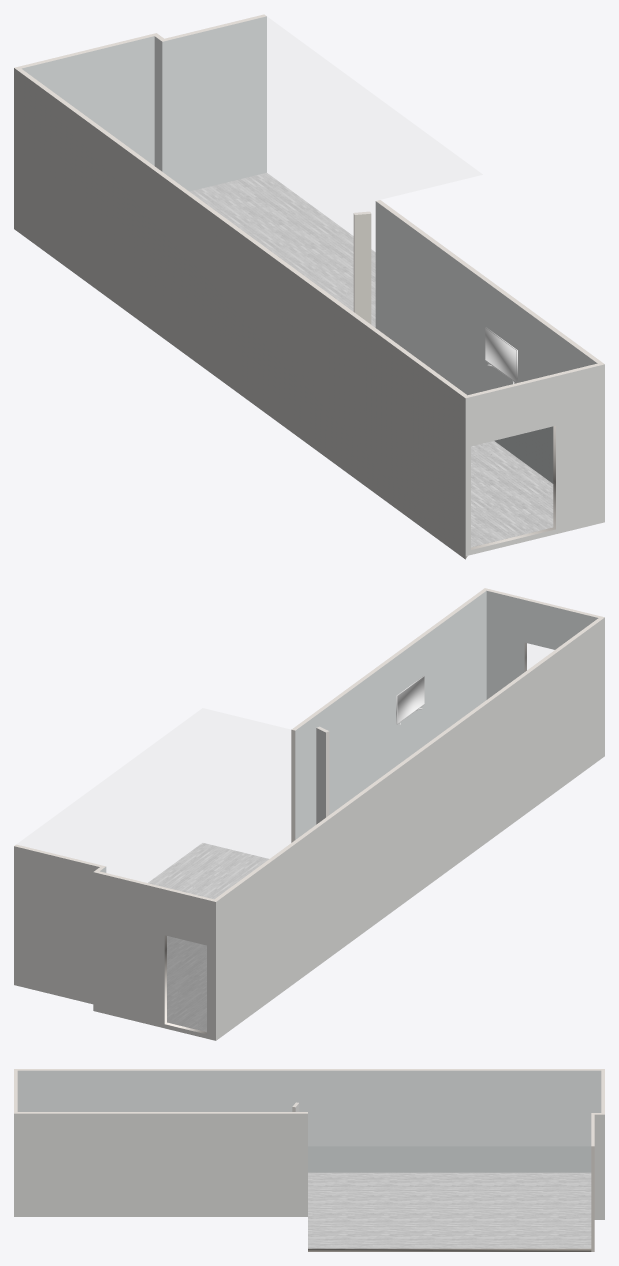
The model's file is Hallway 4th floor.fbx.
The picture shows the model from 3 angles, top to bottom: view 1: azimuth 30°, elevation 25°; view 2: azimuth 150°, elevation 25°; view 3: azimuth 270°, elevation 25°; orthographic projection. The views are drawn at different scales.
Parts seen in each view (by area): view 1: node_c8f162b4_8bad_4fa0_b70a_cc8553a40b19_mesh0, node_9984ba4a_aca2_4daa_b673_05e6e097b9c6_mesh0, node_58249c9a_773a_4366_939b_42f26eef8e7c_mesh0, node_5dfb7020_3766_4bbe_a684_c3a0efe48302_mesh0, node_ee2793d4_974b_43e4_9093_056a3babbbfe_mesh0, node_a1ca4273_c1d7_466e_bc52_b84c2504c80e_mesh0, node_0c271f42_f6e7_4593_a70a_e0feb3aebad8_mesh0, node_2cb83593_a320_420b_b29b_11f2c9d4d0d1_mesh0, node_8138a8fd_d3d7_47f0_9329_5d009b8d666b_mesh0, node_e71bfa3d_18e6_4b1f_af15_6367458d3462_mesh0, node_ad9f8be8_83d5_4f9c_8754_e62c8a05aeab_mesh0, node_f7a79e55_2584_4438_bbd1_88c44eee472d_mesh0 (+3 smaller); view 2: node_c8f162b4_8bad_4fa0_b70a_cc8553a40b19_mesh0, node_9984ba4a_aca2_4daa_b673_05e6e097b9c6_mesh0, node_58249c9a_773a_4366_939b_42f26eef8e7c_mesh0, node_ee2793d4_974b_43e4_9093_056a3babbbfe_mesh0, node_5dfb7020_3766_4bbe_a684_c3a0efe48302_mesh0, node_2f06f73a_b847_4abf_8978_17d8f9cf0782_mesh0, node_d3795726_85a1_40c9_97d2_efd1601a2b18_mesh0, node_2cb83593_a320_420b_b29b_11f2c9d4d0d1_mesh0, node_95a6078e_0f29_4c5b_ba1c_aaef113c0a27_mesh0, node_da366a22_dcdf_4169_ba13_f0b8be87ac36_mesh0, node_e70dcd93_b032_46ff_ba79_76cd89c55ba5_mesh0, node_ad9f8be8_83d5_4f9c_8754_e62c8a05aeab_mesh0 (+3 smaller); view 3: node_7a451858_35b3_472e_9dad_9d8d43d53511_mesh0, node_0e517455_7cbd_4e45_b249_a627592d66c5_mesh0, node_2cb83593_a320_420b_b29b_11f2c9d4d0d1_mesh0, node_9984ba4a_aca2_4daa_b673_05e6e097b9c6_mesh0, node_58249c9a_773a_4366_939b_42f26eef8e7c_mesh0, node_5dfb7020_3766_4bbe_a684_c3a0efe48302_mesh0, node_ad9f8be8_83d5_4f9c_8754_e62c8a05aeab_mesh0, node_aca07e04_f72e_46d1_9ef7_018e1358c714_mesh0, node_6a0d232c_fbf8_4fb6_90fa_848ff07a6869_mesh0, node_5b8b7958_3532_4bbc_b8e1_8815c07b6522_mesh0, node_f032e900_7dc4_4cd1_8155_c2ceb701b849_mesh0.
Boxes of the visible parts, box(x1,y1,x2,y2) form: node_c8f162b4_8bad_4fa0_b70a_cc8553a40b19_mesh0: box(14, 68, 465, 559); node_9984ba4a_aca2_4daa_b673_05e6e097b9c6_mesh0: box(23, 36, 377, 231); node_58249c9a_773a_4366_939b_42f26eef8e7c_mesh0: box(247, 201, 595, 394); node_5dfb7020_3766_4bbe_a684_c3a0efe48302_mesh0: box(164, 17, 482, 199); node_ee2793d4_974b_43e4_9093_056a3babbbfe_mesh0: box(375, 201, 597, 483); node_a1ca4273_c1d7_466e_bc52_b84c2504c80e_mesh0: box(162, 16, 266, 191); node_0c271f42_f6e7_4593_a70a_e0feb3aebad8_mesh0: box(465, 364, 604, 555); node_2cb83593_a320_420b_b29b_11f2c9d4d0d1_mesh0: box(190, 172, 375, 327); node_8138a8fd_d3d7_47f0_9329_5d009b8d666b_mesh0: box(22, 36, 154, 165); node_e71bfa3d_18e6_4b1f_af15_6367458d3462_mesh0: box(471, 441, 553, 547); node_ad9f8be8_83d5_4f9c_8754_e62c8a05aeab_mesh0: box(15, 68, 467, 397); node_f7a79e55_2584_4438_bbd1_88c44eee472d_mesh0: box(354, 213, 371, 324); node_c8f162b4_8bad_4fa0_b70a_cc8553a40b19_mesh0: box(216, 617, 604, 1040); node_9984ba4a_aca2_4daa_b673_05e6e097b9c6_mesh0: box(101, 730, 405, 898); node_58249c9a_773a_4366_939b_42f26eef8e7c_mesh0: box(296, 591, 597, 757); node_ee2793d4_974b_43e4_9093_056a3babbbfe_mesh0: box(295, 591, 486, 839); node_5dfb7020_3766_4bbe_a684_c3a0efe48302_mesh0: box(18, 708, 291, 865); node_2f06f73a_b847_4abf_8978_17d8f9cf0782_mesh0: box(93, 872, 215, 1040); node_d3795726_85a1_40c9_97d2_efd1601a2b18_mesh0: box(14, 846, 99, 1004); node_2cb83593_a320_420b_b29b_11f2c9d4d0d1_mesh0: box(148, 843, 268, 1031); node_95a6078e_0f29_4c5b_ba1c_aaef113c0a27_mesh0: box(486, 591, 598, 699); node_da366a22_dcdf_4169_ba13_f0b8be87ac36_mesh0: box(167, 936, 206, 1031); node_e70dcd93_b032_46ff_ba79_76cd89c55ba5_mesh0: box(167, 936, 206, 1031); node_ad9f8be8_83d5_4f9c_8754_e62c8a05aeab_mesh0: box(214, 617, 604, 901); node_7a451858_35b3_472e_9dad_9d8d43d53511_mesh0: box(17, 1070, 601, 1172); node_0e517455_7cbd_4e45_b249_a627592d66c5_mesh0: box(14, 1113, 307, 1216); node_2cb83593_a320_420b_b29b_11f2c9d4d0d1_mesh0: box(308, 1172, 591, 1248); node_9984ba4a_aca2_4daa_b673_05e6e097b9c6_mesh0: box(308, 1071, 600, 1112); node_58249c9a_773a_4366_939b_42f26eef8e7c_mesh0: box(18, 1071, 307, 1111); node_5dfb7020_3766_4bbe_a684_c3a0efe48302_mesh0: box(308, 1113, 590, 1145); node_ad9f8be8_83d5_4f9c_8754_e62c8a05aeab_mesh0: box(14, 1069, 604, 1070); node_aca07e04_f72e_46d1_9ef7_018e1358c714_mesh0: box(594, 1114, 604, 1219); node_6a0d232c_fbf8_4fb6_90fa_848ff07a6869_mesh0: box(308, 1248, 591, 1251); node_5b8b7958_3532_4bbc_b8e1_8815c07b6522_mesh0: box(14, 1112, 307, 1113); node_f032e900_7dc4_4cd1_8155_c2ceb701b849_mesh0: box(591, 1146, 594, 1251).
Bounding box in the file's own units: 521 × 331 × 1680.
10 materials, 2 textured.
